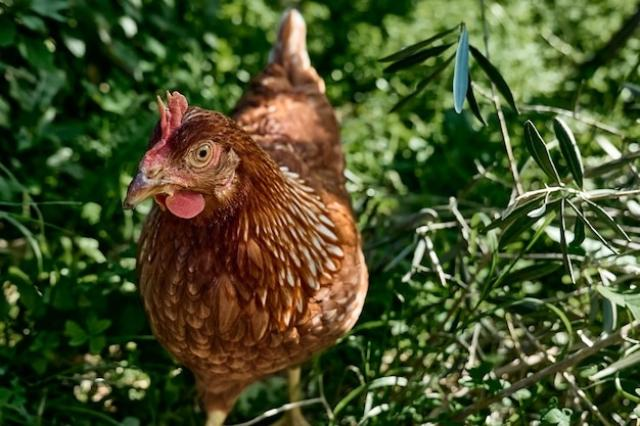Chicken: (120, 9, 370, 426)
